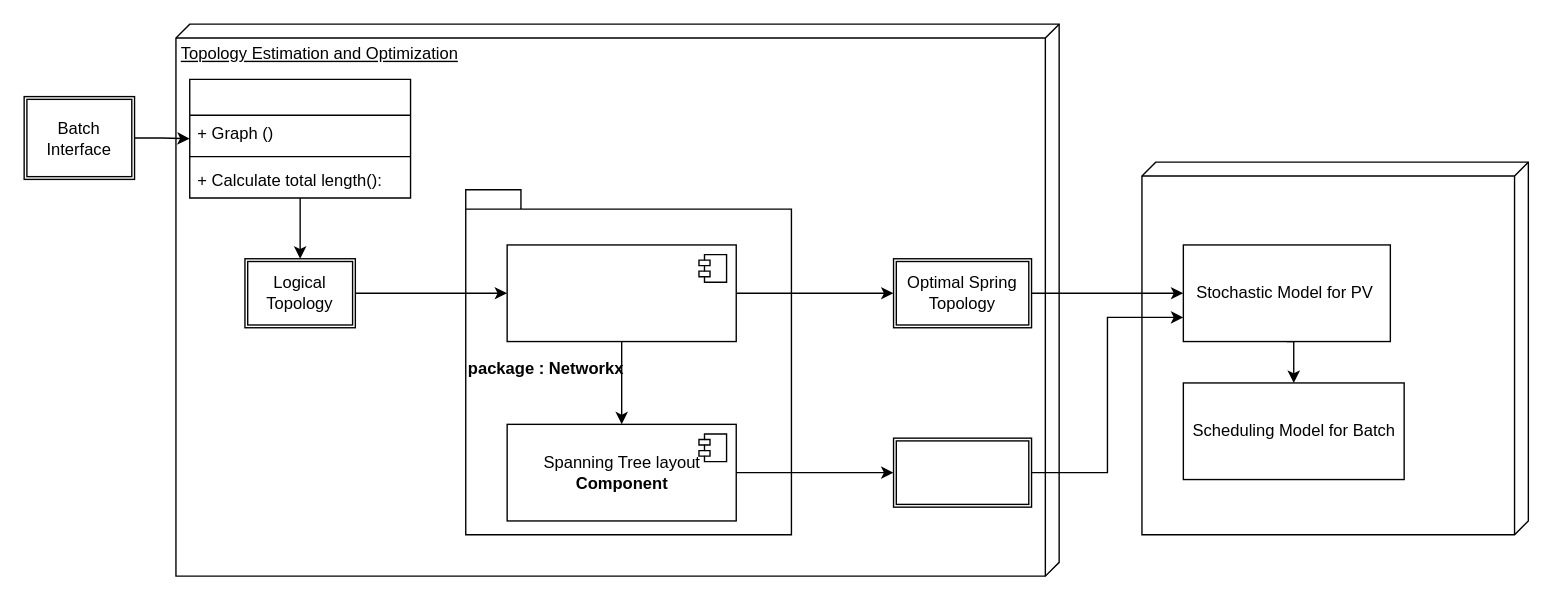
The diagram is 1553 pixels wide and 600 high, and some of its shapes have lost their labels. The shapes that lost their labels are listed below. From the top down, each one's box as (x1, y1, x2, y2) in pixels, then its label:
(188, 78, 411, 198): Batch Topology Class
(506, 244, 736, 342): Spring layout Component
(1141, 161, 1528, 535): Performance assesment
(892, 437, 1032, 507): Optimal Spanning Tree Topology
